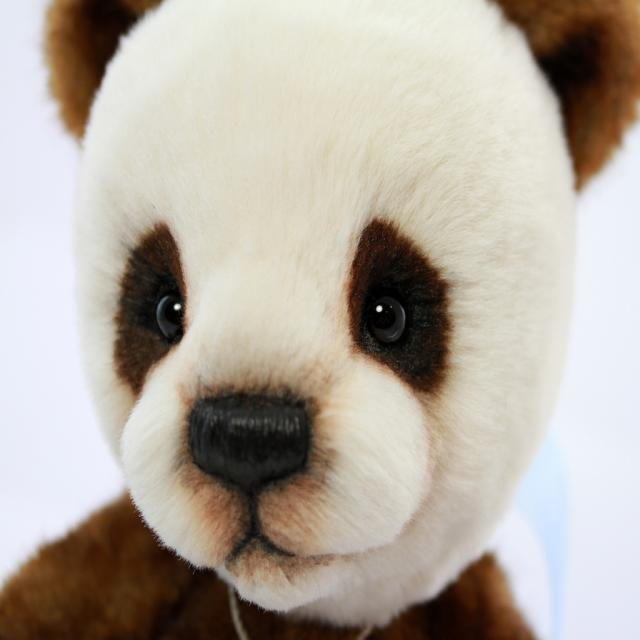panda: (4, 0, 637, 639)
